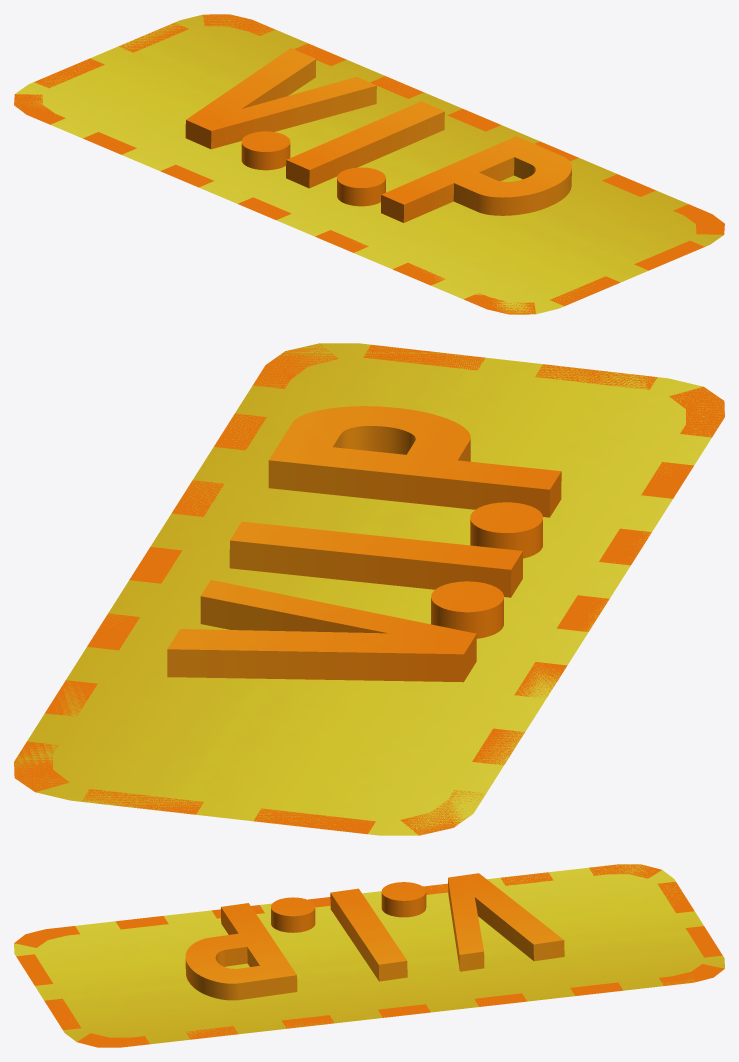
Rendered from VIP_SLOT.fbx.
3 renders of one model, top to bottom at view 1: azimuth 30°, elevation 25°; view 2: azimuth 150°, elevation 25°; view 3: azimuth 270°, elevation 25°, orthographic. The views are drawn at different scales.
Visible parts, largest first — view 1: 02_Plane.011, 02_Plane.013, Object_32, Object_38, Object_54, Cylinder, Cylinder.001; view 2: 02_Plane.011, 02_Plane.013, Object_38, Object_32, Object_54, Cylinder, Cylinder.001; view 3: 02_Plane.011, 02_Plane.013, Object_32, Object_38, Object_54, Cylinder, Cylinder.001.
Part boxes in pixels (x1=…): 02_Plane.011: x1=15, y1=14, x2=723, y2=314; 02_Plane.013: x1=14, y1=14, x2=724, y2=314; Object_32: x1=381, y1=136, x2=571, y2=222; Object_38: x1=185, y1=48, x2=376, y2=149; Object_54: x1=286, y1=101, x2=444, y2=188; Cylinder: x1=241, y1=131, x2=290, y2=170; Cylinder.001: x1=337, y1=167, x2=385, y2=206; 02_Plane.011: x1=14, y1=343, x2=723, y2=835; 02_Plane.013: x1=14, y1=343, x2=724, y2=835; Object_38: x1=167, y1=580, x2=476, y2=682; Object_32: x1=268, y1=406, x2=561, y2=517; Object_54: x1=229, y1=521, x2=522, y2=597; Cylinder: x1=431, y1=581, x2=503, y2=638; Cylinder.001: x1=470, y1=502, x2=542, y2=558; 02_Plane.011: x1=14, y1=864, x2=724, y2=1045; 02_Plane.013: x1=14, y1=864, x2=724, y2=1047; Object_32: x1=185, y1=903, x2=297, y2=1000; Object_38: x1=448, y1=873, x2=564, y2=971; Object_54: x1=330, y1=888, x2=407, y2=981; Cylinder: x1=381, y1=882, x2=426, y2=917; Cylinder.001: x1=271, y1=897, x2=315, y2=932.
Size of the model in its own units: 227 by 16.65 by 373.
